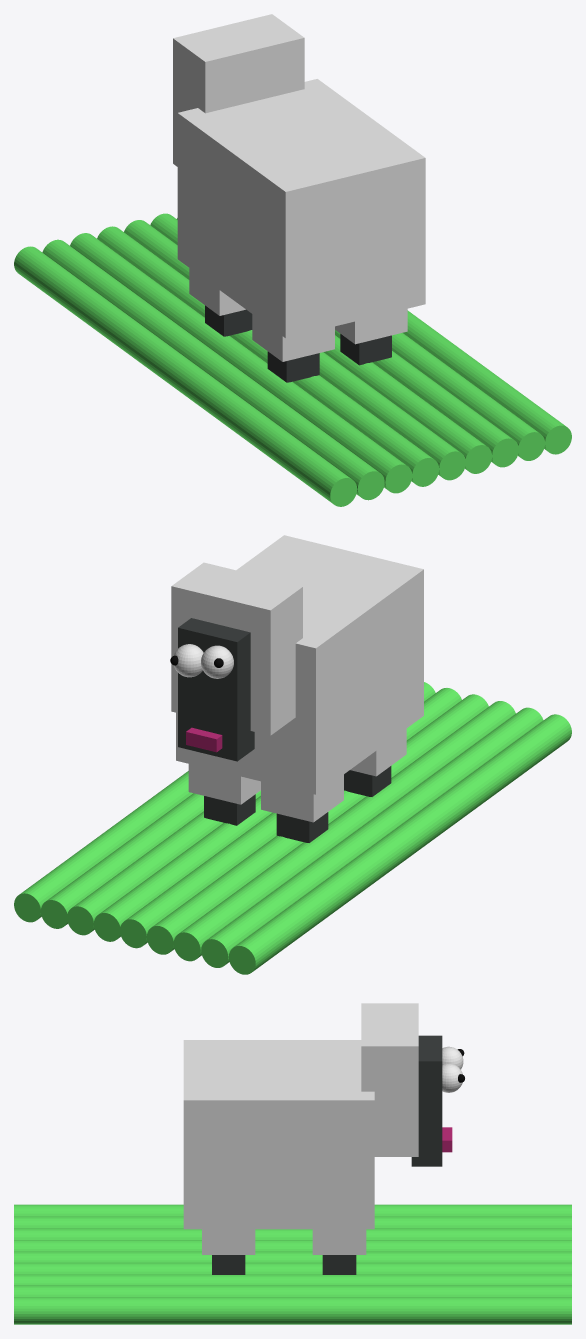
Rendered from sheep-processed.glb.
3 renders of one model, top to bottom at view 1: azimuth 30°, elevation 25°; view 2: azimuth 150°, elevation 25°; view 3: azimuth 270°, elevation 25°, orthographic. The views are drawn at different scales.
Visible parts, largest first — view 1: Cube.001, Cylinder.009, Cube.002, Cylinder.005, Cylinder.004, Cylinder.003, Cylinder.002, Cylinder.008, Cylinder.001, Cylinder.007, Cylinder.006, Cube.007 (+5 smaller); view 2: Cube.001, Cylinder.009, Cube.002, Cylinder.005, Cylinder.004, Cube.003, Cylinder.003, Cylinder.002, Cylinder.008, Cylinder.001, Cylinder.007, Cylinder.006 (+9 smaller); view 3: Cube.001, Cylinder.008, Cube.002, Cylinder.007, Cylinder.006, Cylinder.001, Cylinder.002, Cylinder.003, Cylinder.004, Cylinder.005, Cylinder.009, Cube.003 (+5 smaller).
Boxes of the visible parts, left/top/right/bottom form: Cube.001: left=177, top=79, right=425, bottom=338; Cylinder.009: left=14, top=246, right=357, bottom=506; Cube.002: left=173, top=14, right=304, bottom=166; Cylinder.005: left=42, top=239, right=384, bottom=500; Cylinder.004: left=70, top=233, right=412, bottom=493; Cylinder.003: left=97, top=226, right=438, bottom=486; Cylinder.002: left=124, top=220, right=465, bottom=480; Cylinder.008: left=403, top=310, right=571, bottom=454; Cylinder.001: left=150, top=213, right=491, bottom=473; Cylinder.007: left=392, top=333, right=544, bottom=460; Cylinder.006: left=177, top=218, right=518, bottom=467; Cube.007: left=252, top=314, right=334, bottom=361; Cube.001: left=176, top=535, right=423, bottom=794; Cylinder.009: left=228, top=714, right=571, bottom=974; Cube.002: left=171, top=562, right=302, bottom=735; Cylinder.005: left=201, top=707, right=543, bottom=967; Cylinder.004: left=173, top=701, right=515, bottom=961; Cube.003: left=178, top=618, right=254, bottom=761; Cylinder.003: left=147, top=694, right=488, bottom=954; Cylinder.002: left=120, top=688, right=461, bottom=948; Cylinder.008: left=14, top=771, right=193, bottom=922; Cylinder.001: left=94, top=682, right=435, bottom=941; Cylinder.007: left=41, top=793, right=203, bottom=928; Cylinder.006: left=67, top=790, right=260, bottom=935; Cube.001: left=183, top=1040, right=374, bottom=1229; Cylinder.008: left=14, top=1297, right=571, bottom=1324; Cube.002: left=361, top=1003, right=418, bottom=1156; Cylinder.007: left=14, top=1285, right=571, bottom=1296; Cylinder.006: left=14, top=1274, right=571, bottom=1285; Cylinder.001: left=14, top=1262, right=571, bottom=1274; Cylinder.002: left=14, top=1251, right=571, bottom=1262; Cylinder.003: left=14, top=1240, right=571, bottom=1251; Cylinder.004: left=14, top=1228, right=571, bottom=1239; Cylinder.005: left=14, top=1216, right=571, bottom=1228; Cylinder.009: left=14, top=1204, right=571, bottom=1216; Cube.003: left=411, top=1035, right=442, bottom=1166.
Size of the model in its own units: 6.66 by 7.54 by 15.1.
